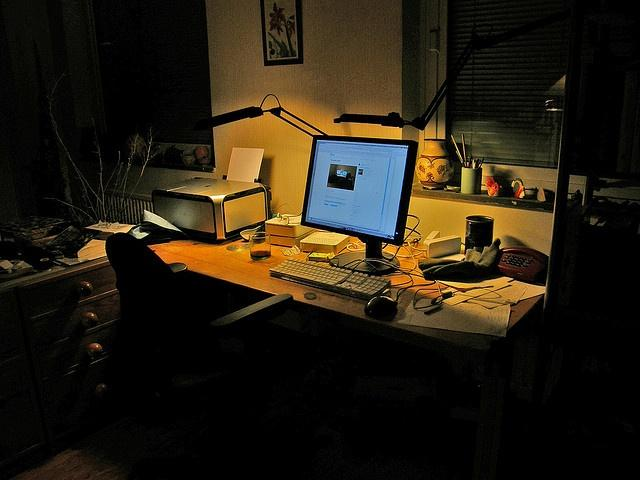AIO PC-Monitor-TV: (299, 133, 418, 247)
Printer: (150, 146, 271, 242)
